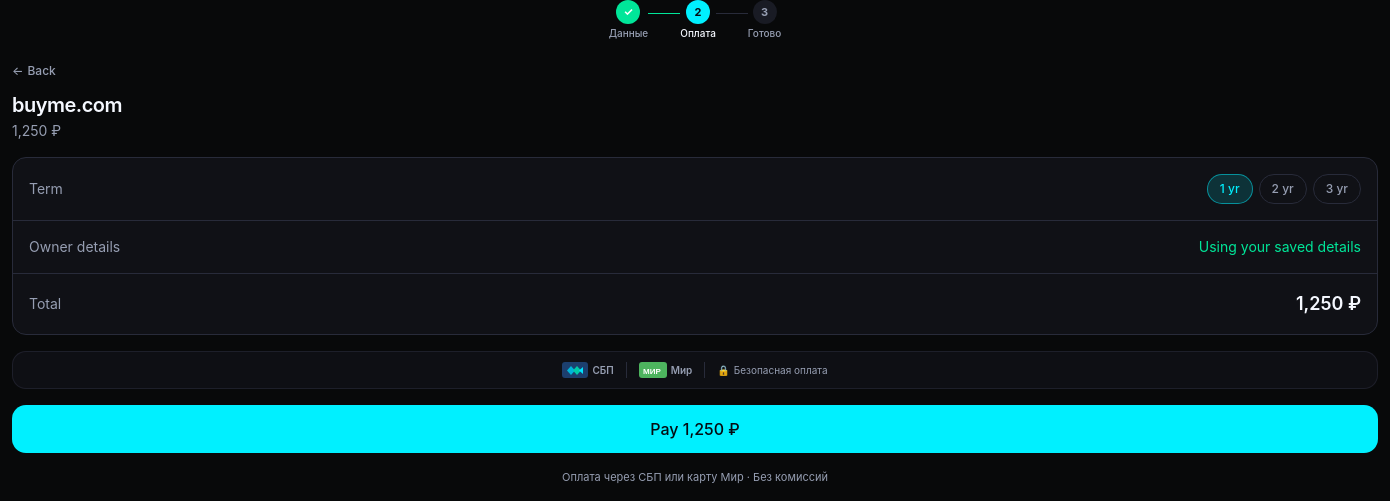
Test: CheckoutScreen payment › shows the total and multiplies it by the chosen term
Expected: the text "Using your saved details" is shown, [1199,237,1361,257]
Expected: the button "Pay 1,250 ₽" is shown, [12,405,1378,453]
Click the button "2 yr": coordinates (1283, 189) [1259,174,1307,204]
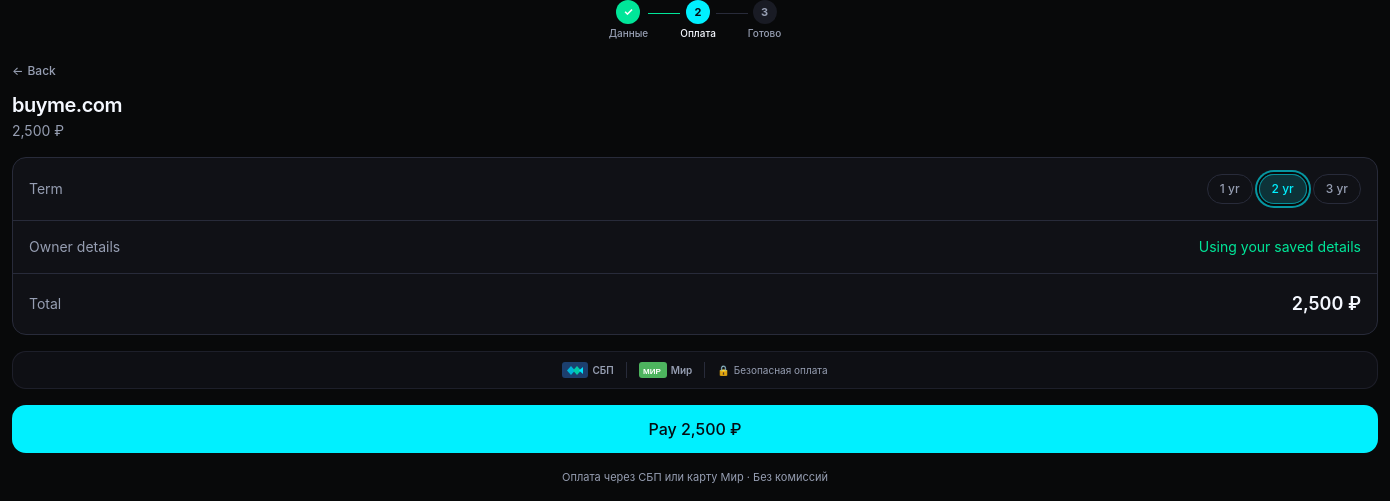
Expected: the button "Pay 2,500 ₽" is shown, [12,405,1378,453]
